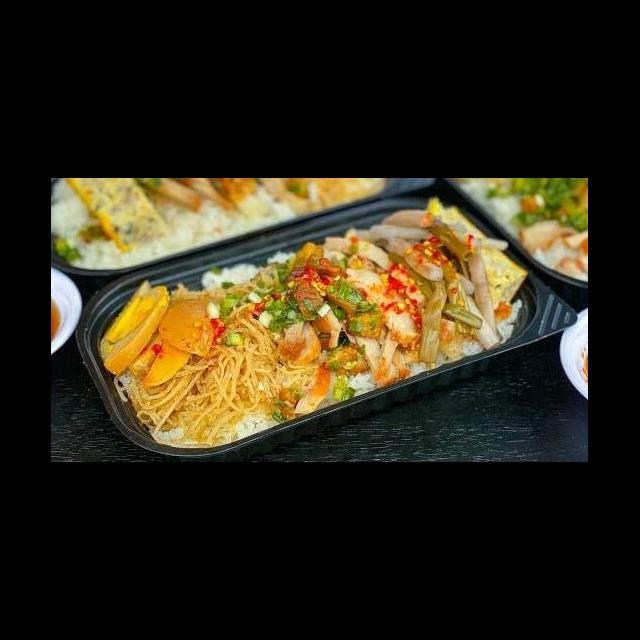bi: (128, 299, 316, 450)
com: (146, 400, 284, 456)
com suon bi trung: (86, 220, 533, 440)
dua chua: (384, 216, 506, 365)
suon: (268, 234, 427, 422)
trung: (96, 277, 220, 390), (424, 195, 532, 313)
